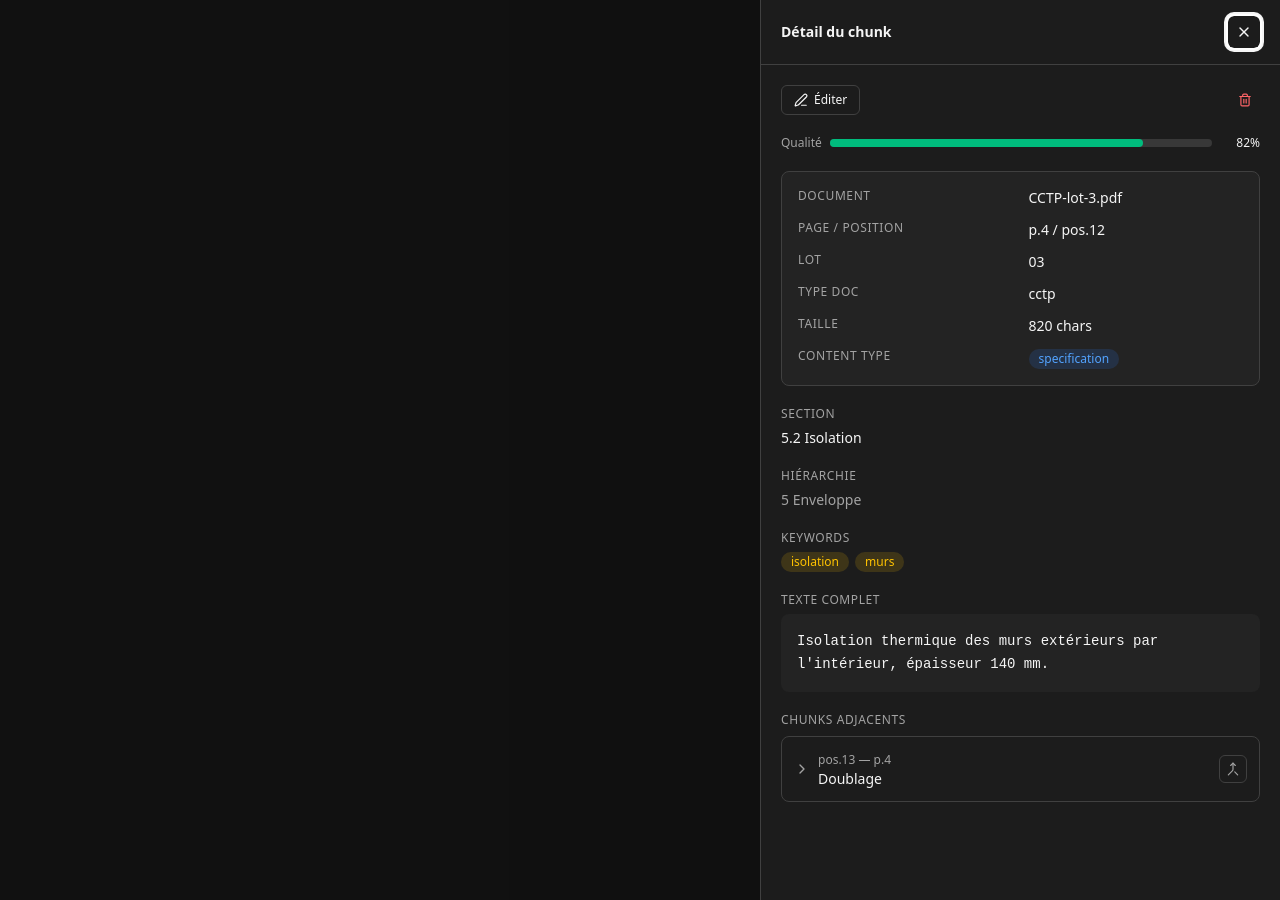
Test: ChunkDetail — the panel says what failed and never fakes a success › clears the previous action's failure when a new action is started
This screenshot has width=1280, height=900.
What coordinates should you click on to do the following:
click the button named "Supprimer le chunk"
I would click on:
 (1245, 100)
Its box is left=1230, top=87, right=1260, bottom=113.
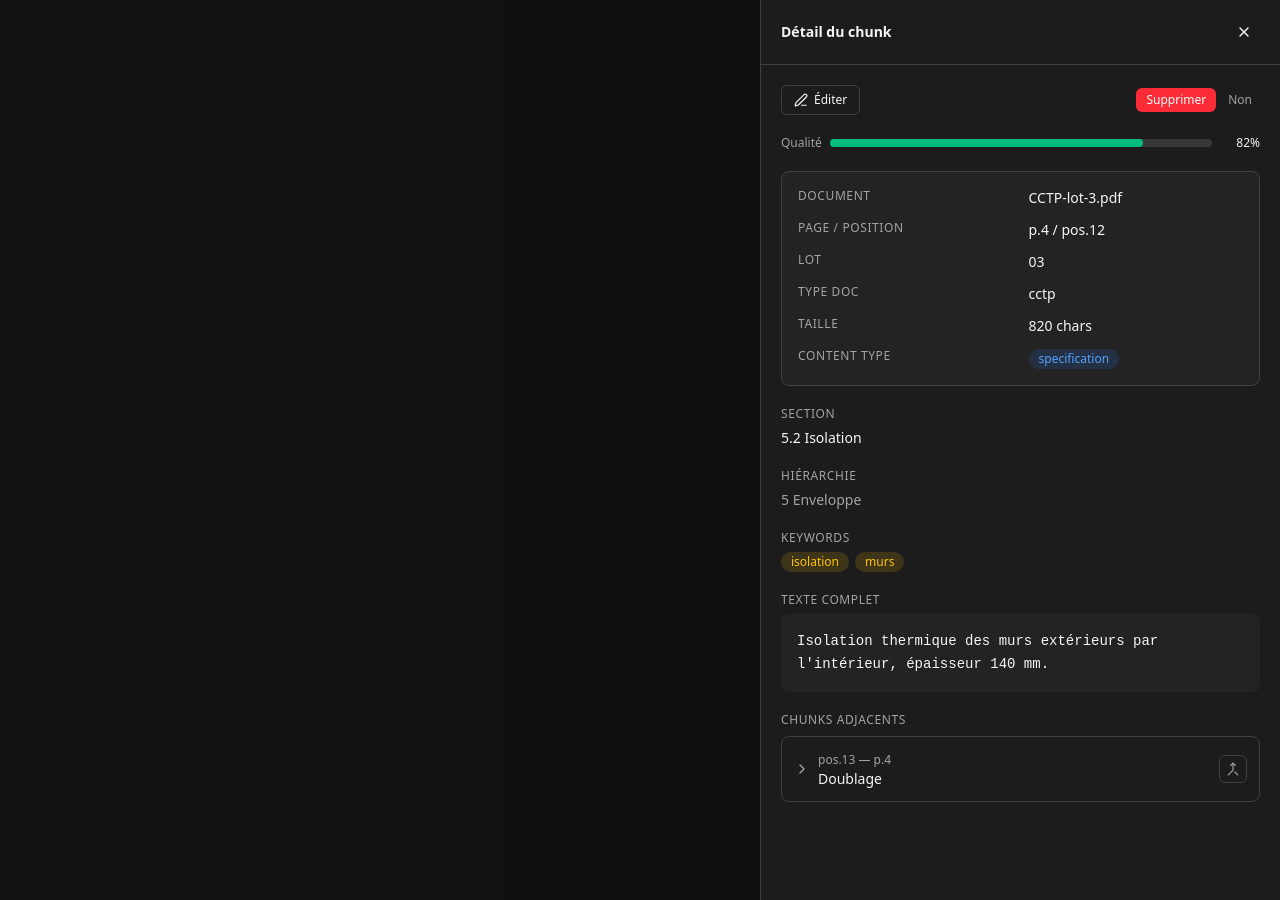
What coordinates should you click on to do the following:
click the button "Supprimer"
I would click on:
 (1176, 100)
Its box is left=1136, top=88, right=1216, bottom=112.
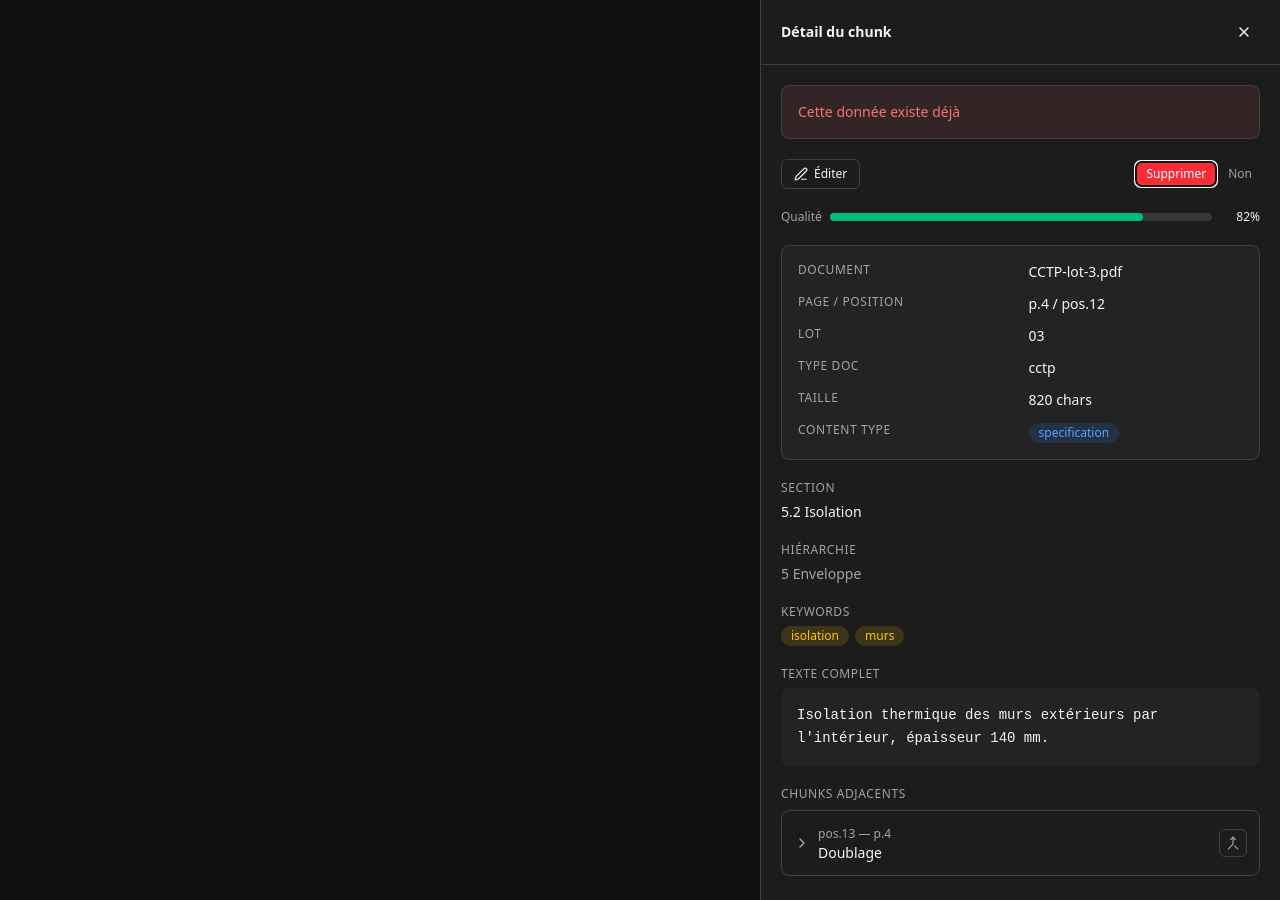
Expected: the message "Cette donnée existe déjà" is shown, left=781, top=85, right=1260, bottom=139
What coordinates should you click on to do the following:
click the button "Éditer"
I would click on:
 (821, 174)
Its box is left=781, top=159, right=860, bottom=189.
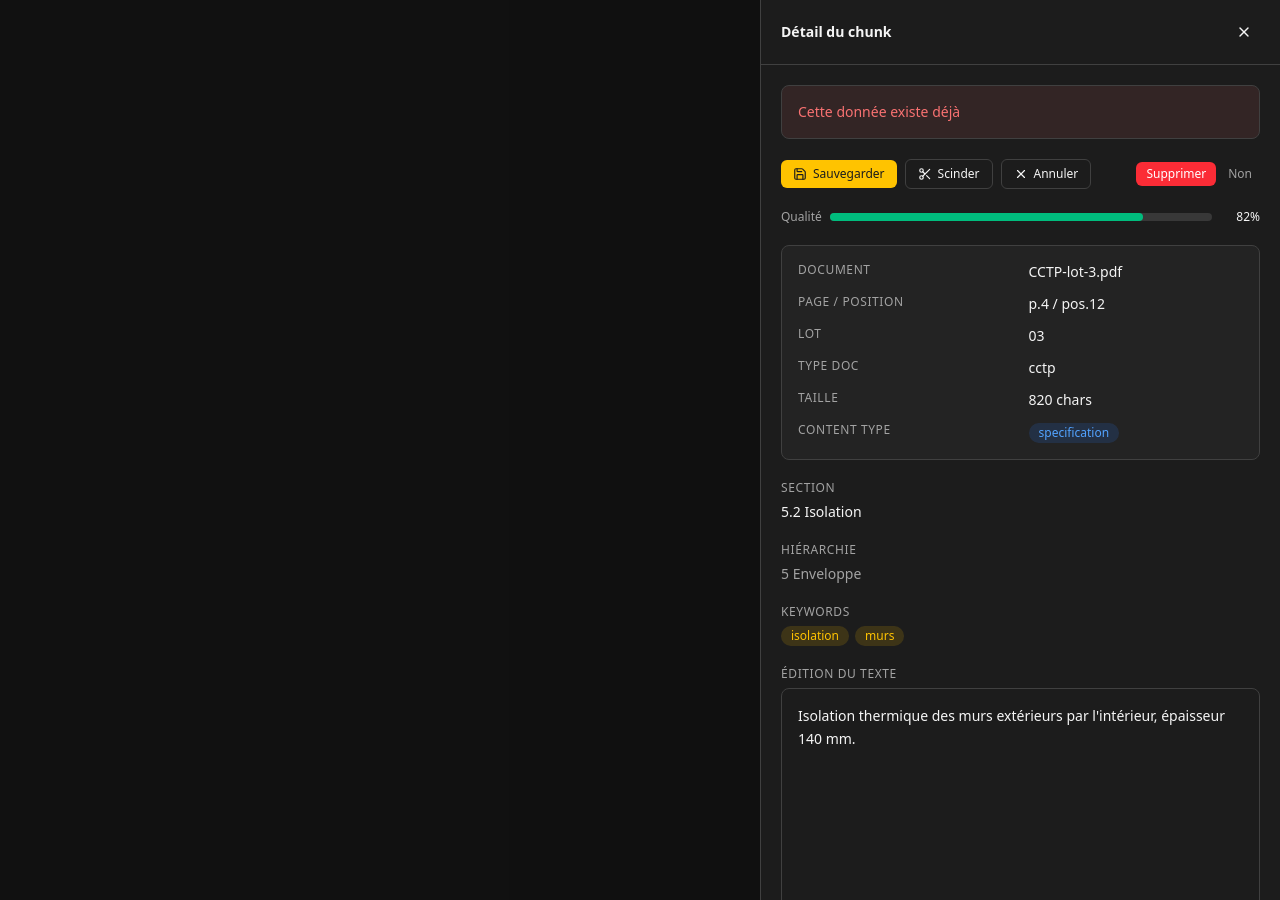
What coordinates should you click on to do the following:
click the button "Sauvegarder"
I would click on:
 (839, 174)
Its box is left=781, top=160, right=896, bottom=188.
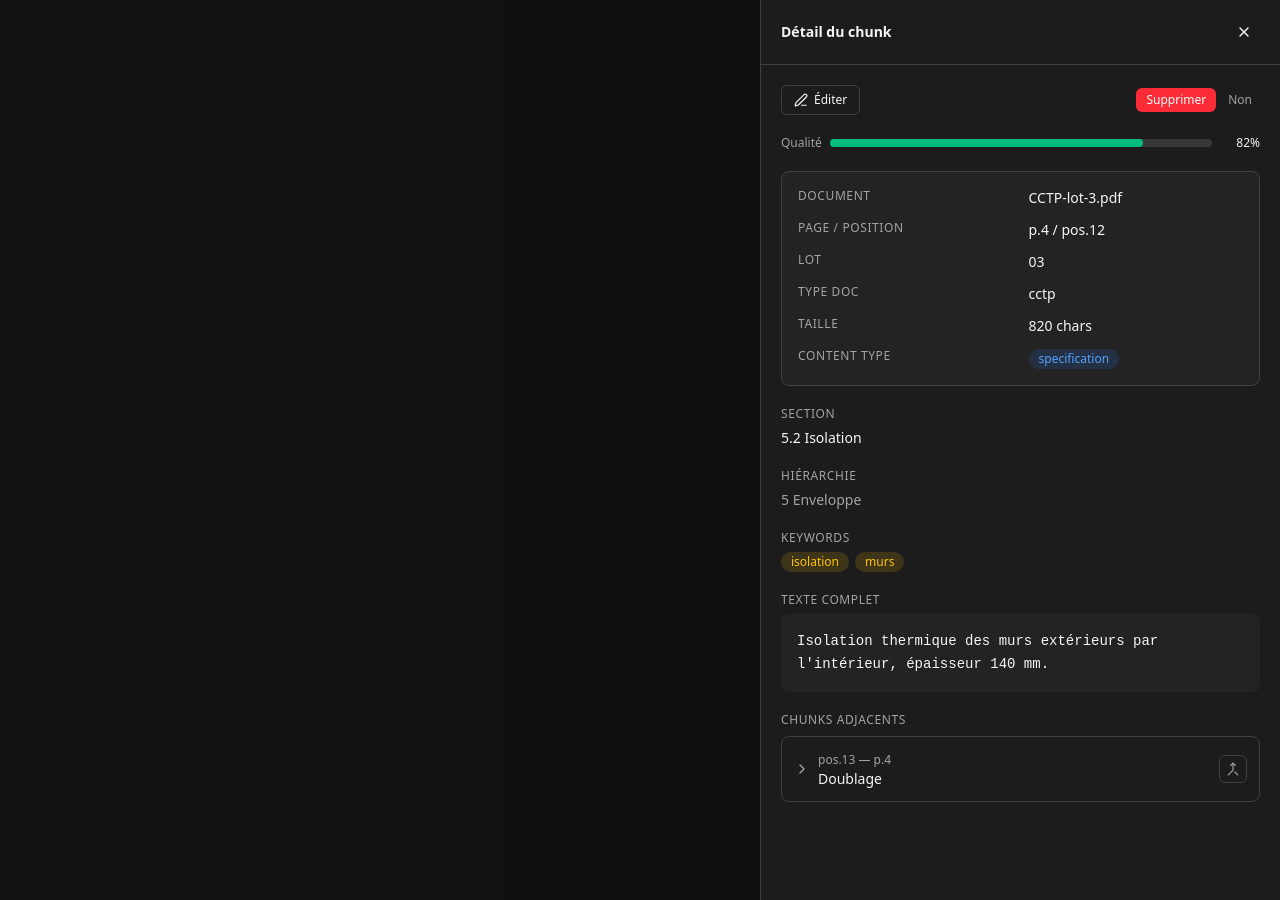
Expected: the message "Cette donnée existe déjà" is gone
